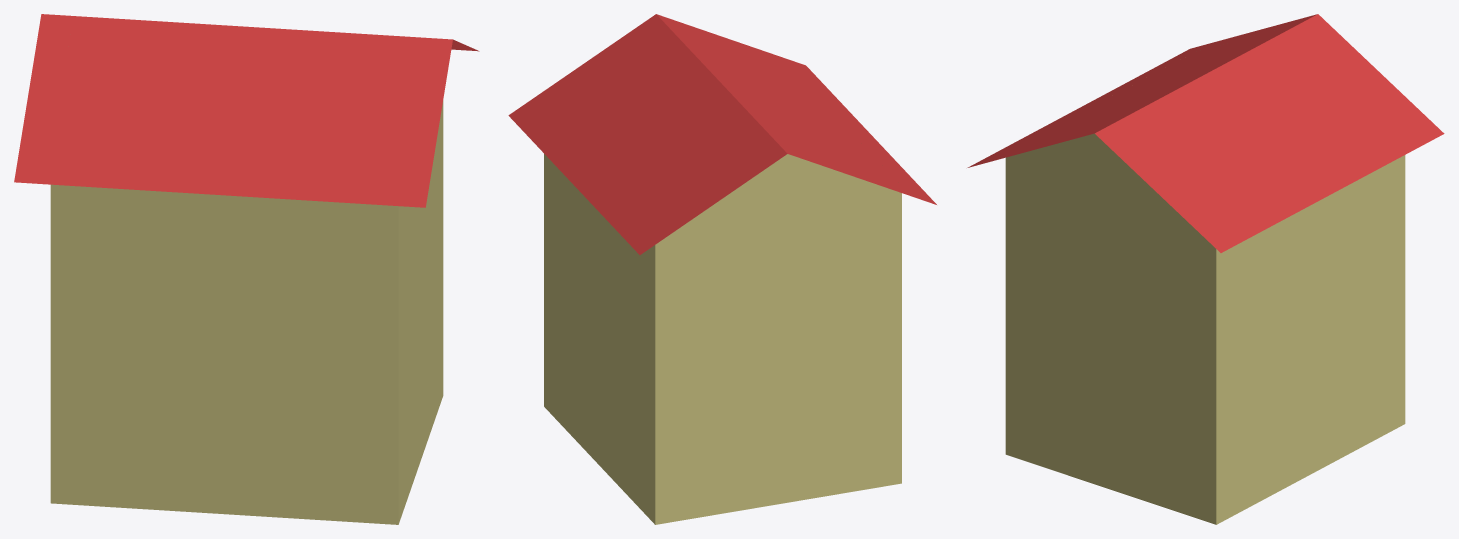
The picture shows the model from 3 angles, left to right: view 1: azimuth 30°, elevation 25°; view 2: azimuth 150°, elevation 25°; view 3: azimuth 270°, elevation 25°; orthographic projection. The views are drawn at different scales.
Visible parts, largest first — view 1: group_5, group_3, group_4; view 2: group_5, group_3, group_4; view 3: group_5, group_3, group_4.
Part boxes in pixels (box(x1,y1,x2,y2)): group_5: box(50, 100, 443, 524); group_3: box(16, 16, 466, 207); group_4: box(14, 14, 479, 182); group_5: box(544, 154, 901, 524); group_3: box(508, 14, 935, 253); group_4: box(509, 14, 936, 254); group_5: box(1005, 133, 1405, 524); group_3: box(967, 14, 1404, 252); group_4: box(1079, 14, 1444, 252).
Bounding box in the file's own units: 13.03 × 12.87 × 10.87.
